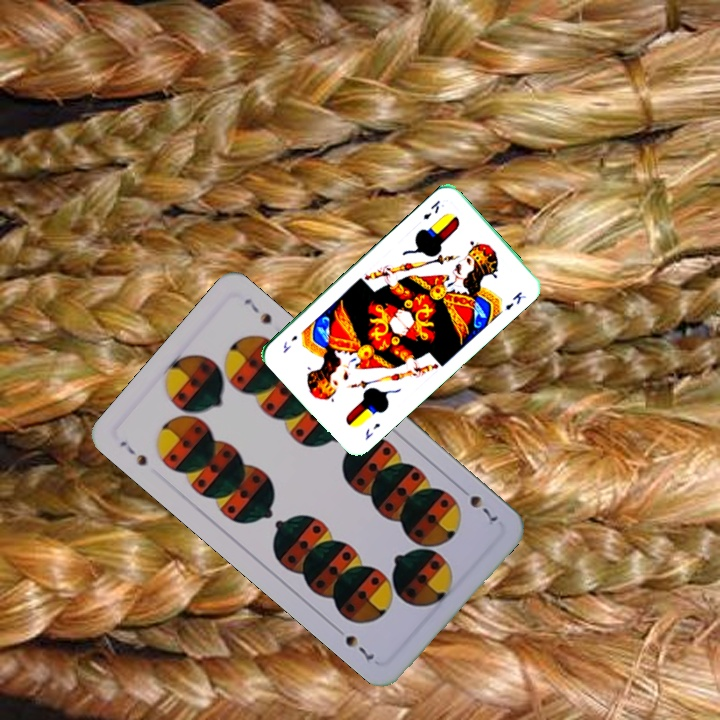EK: (419, 196, 442, 222), (361, 419, 383, 442)
S7: (455, 482, 501, 525), (115, 436, 150, 469)
